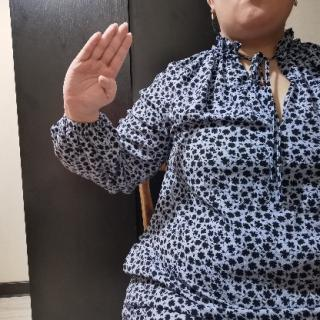KAAF: (61, 17, 136, 118)
